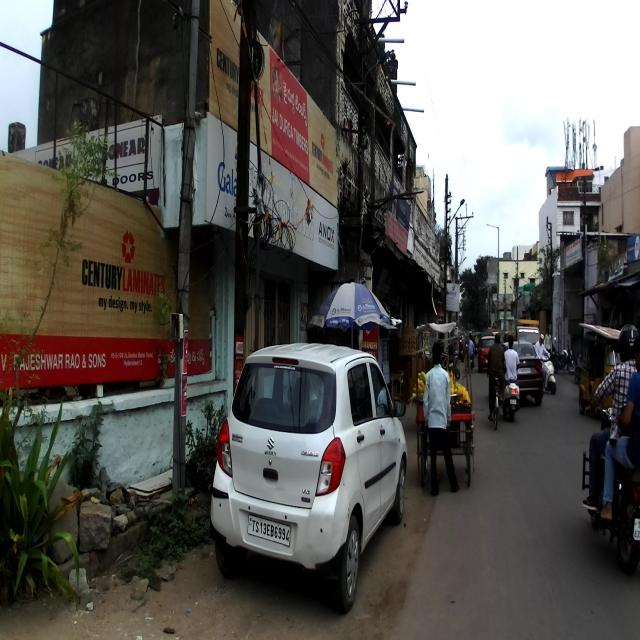Car_Maruti-Suzuki: (209, 341, 407, 614)
motorcycle_RoyalEnfield: (580, 402, 640, 573)
scooter: (502, 367, 521, 421)
